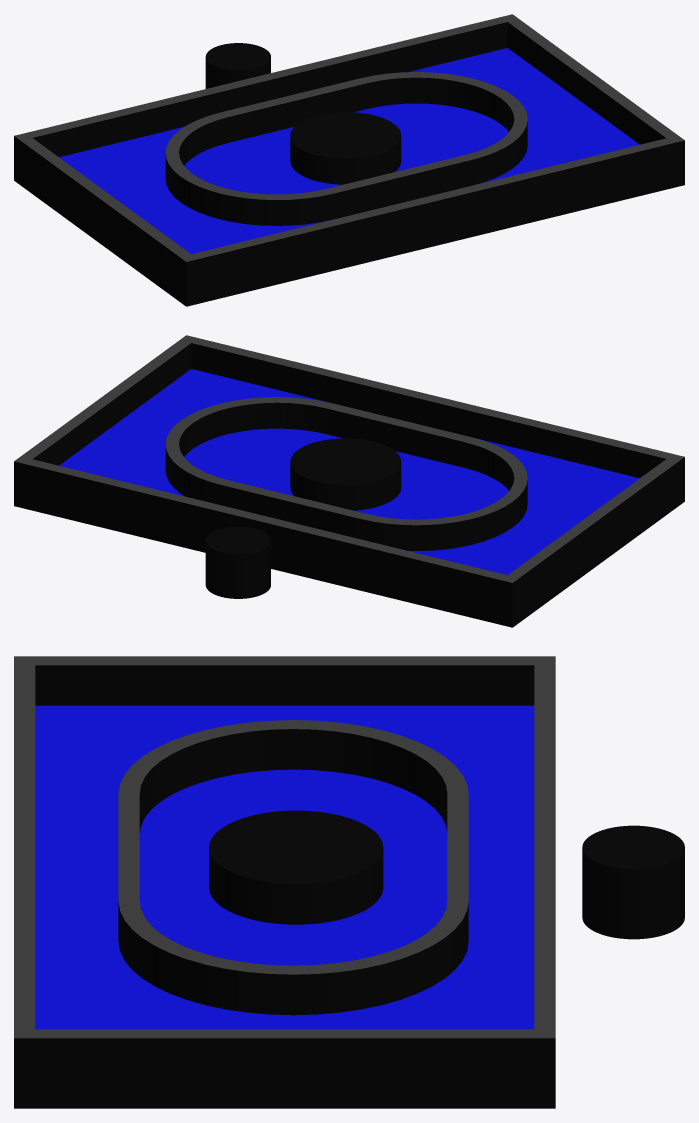
File: ORBAT_FRIENDLY_white_eye_o.dae
3 views of the same model, one above another, from view 1: azimuth 30°, elevation 25°; view 2: azimuth 150°, elevation 25°; view 3: azimuth 270°, elevation 25° (orthographic). The views are drawn at different scales.
Visible parts, largest first — view 1: SM_ORBAT_-_Eye_path1763-2.253; view 2: SM_ORBAT_-_Eye_path1763-2.253; view 3: SM_ORBAT_-_Eye_path1763-2.253.
Part boxes in pixels (box(x1,y1,x2,y2)): SM_ORBAT_-_Eye_path1763-2.253: box(14, 14, 684, 306); SM_ORBAT_-_Eye_path1763-2.253: box(14, 335, 684, 627); SM_ORBAT_-_Eye_path1763-2.253: box(14, 656, 684, 1108).
Size of the model in its own units: 1.21 by 0.8948 by 0.1034.
